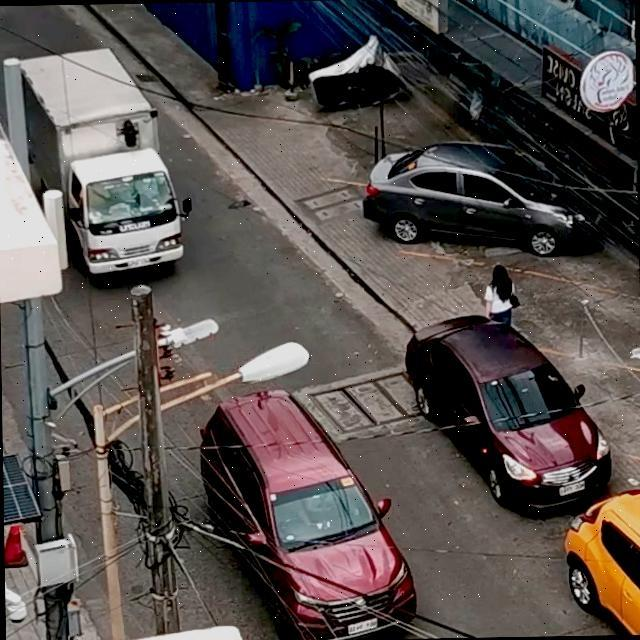Truck: (0, 18, 201, 302)
